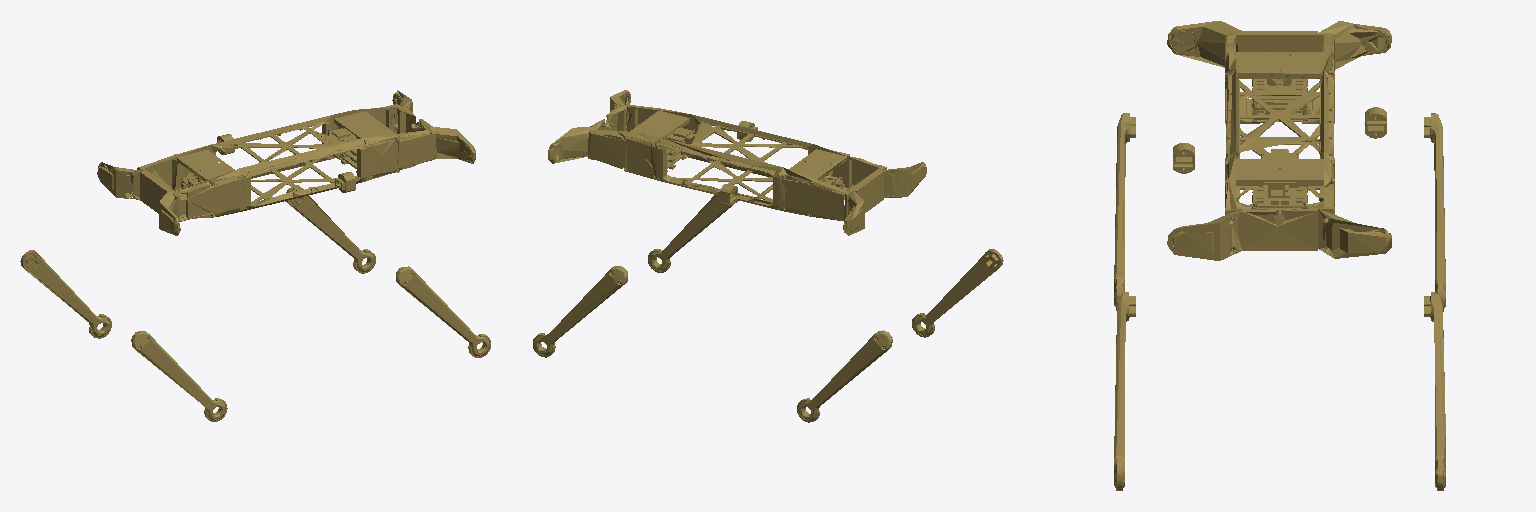
robot.urdf — od:
<?xml version="1.0"?>
<!-- created with Phobos 1.0.1 "Capricious Choutengan" -->
  <robot name="od">

    <link name="link_hip_a">
      <inertial>
        <origin xyz="0 0 0" rpy="0 0 0"/>
        <mass value="0.15"/>
        <inertia ixx="4e-05" ixy="0" ixz="0" iyy="0.00041" iyz="0" izz="0.00041"/>
      </inertial>
      <visual name="visual_Hip_Fe_Module_A">
        <origin xyz="0 0 0" rpy="0 0 0"/>
        <geometry>
          <mesh filename="HipFeModuleA.dae" scale="1.0 1.0 1.0"/>
        </geometry>
        <material name="Material"/>
      </visual>
      <collision name="collision_hip_a">
        <origin xyz="0 0 0" rpy="0 0 0"/>
        <geometry>
          <box size="0.1759 0.0389 0.04438"/>
        </geometry>
      </collision>
    </link>

    <link name="link_hip_b">
      <inertial>
        <origin xyz="0 0 0" rpy="0 0 0"/>
        <mass value="0.15"/>
        <inertia ixx="4e-05" ixy="0" ixz="0" iyy="0.00053" iyz="0" izz="0.00052"/>
      </inertial>
      <visual name="visual_Hip_Adapter_B">
        <origin xyz="0 0 0" rpy="0 0 0"/>
        <geometry>
          <mesh filename="HipAdapterB.dae" scale="1.0 1.0 1.0"/>
        </geometry>
        <material name="Material"/>
      </visual>
      <visual name="visual_Hip_Fe_Module_B">
        <origin xyz="0 0 0" rpy="0 0 0"/>
        <geometry>
          <mesh filename="HipFeModuleB.dae" scale="1.0 1.0 1.0"/>
        </geometry>
        <material name="Material"/>
      </visual>
      <collision name="Hip Fe Module B">
        <origin xyz="0 0 0" rpy="0 0 0"/>
        <geometry>
          <box size="0.201 0.0389 0.04438"/>
        </geometry>
      </collision>
    </link>

    <link name="link_hip_c">
      <inertial>
        <origin xyz="0 0 0" rpy="0 0 0"/>
        <mass value="0.15"/>
        <inertia ixx="4e-05" ixy="0" ixz="0" iyy="0.00053" iyz="0" izz="0.00052"/>
      </inertial>
      <visual name="visual_HipFeModuleC">
        <origin xyz="0 0 0" rpy="0 0 0"/>
        <geometry>
          <mesh filename="HipFeModuleC.dae" scale="1.0 1.0 1.0"/>
        </geometry>
        <material name="Material"/>
      </visual>
      <visual name="visual_Hip_Adapter_C">
        <origin xyz="0 0 0" rpy="0 0 0"/>
        <geometry>
          <mesh filename="HipAdapterC.dae" scale="1.0 1.0 1.0"/>
        </geometry>
        <material name="Material"/>
      </visual>
      <collision name="Hip Fe Module B">
        <origin xyz="0 0 0" rpy="0 0 0"/>
        <geometry>
          <box size="0.201 0.0389 0.04438"/>
        </geometry>
      </collision>
    </link>

    <link name="link_hip_d">
      <inertial>
        <origin xyz="0 0 0" rpy="0 0 0"/>
        <mass value="0.15"/>
        <inertia ixx="4e-05" ixy="0" ixz="0" iyy="0.00041" iyz="0" izz="0.00041"/>
      </inertial>
      <visual name="visual_Hip_Fe_Module_D">
        <origin xyz="0 0 0" rpy="0 0 0"/>
        <geometry>
          <mesh filename="HipFeModuleD.dae" scale="1.0 1.0 1.0"/>
        </geometry>
        <material name="Material"/>
      </visual>
      <collision name="Hip Fe Module A">
        <origin xyz="0 0 0" rpy="0 0 0"/>
        <geometry>
          <box size="0.1759 0.0389 0.04438"/>
        </geometry>
      </collision>
    </link>

    <link name="link_l_leg_a">
      <inertial>
        <origin xyz="0 0 0" rpy="0 0 0"/>
        <mass value="0.02"/>
        <inertia ixx="4e-05" ixy="0" ixz="0" iyy="6e-05" iyz="0" izz="3e-05"/>
      </inertial>
      <visual name="visual_Lower_Leg_A">
        <origin xyz="0.09277 0.14695 0.12354" rpy="0 0 0"/>
        <geometry>
          <mesh filename="LowerLegA.dae" scale="1.0 1.0 1.0"/>
        </geometry>
        <material name="Material"/>
      </visual>
      <collision name="collision_Cyl_link_l_leg_a">
        <origin xyz="0 0 0" rpy="0 0 0"/>
        <geometry>
          <cylinder radius="0.0165" length="0.033"/>
        </geometry>
      </collision>
      <collision name="collision_Lower_Leg">
        <origin xyz="0.09277 0.14695 0.12354" rpy="0 0 0"/>
        <geometry>
          <mesh filename="col_LowerLegA.dae" scale="1.0 1.0 1.0"/>
        </geometry>
      </collision>
    </link>

    <link name="link_l_leg_b">
      <inertial>
        <origin xyz="0 0 0" rpy="0 0 0"/>
        <mass value="0.02"/>
        <inertia ixx="4e-05" ixy="0" ixz="0" iyy="6e-05" iyz="0" izz="3e-05"/>
      </inertial>
      <visual name="visual_Lower_Leg_B">
        <origin xyz="0 0 0" rpy="0 0 0"/>
        <geometry>
          <mesh filename="LowerLegB.dae" scale="1.0 1.0 1.0"/>
        </geometry>
        <material name="Material"/>
      </visual>
      <collision name="Cylinder">
        <origin xyz="0 0 0" rpy="0 0 0"/>
        <geometry>
          <cylinder radius="0.0165" length="0.033"/>
        </geometry>
      </collision>
      <collision name="collision_Lower_Leg_B">
        <origin xyz="0 0 0" rpy="0 0 0"/>
        <geometry>
          <mesh filename="col_LowerLegB.dae" scale="1.0 1.0 1.0"/>
        </geometry>
      </collision>
    </link>

    <link name="link_l_leg_c">
      <inertial>
        <origin xyz="0 0 0" rpy="0 0 0"/>
        <mass value="0.02"/>
        <inertia ixx="4e-05" ixy="0" ixz="0" iyy="6e-05" iyz="0" izz="3e-05"/>
      </inertial>
      <visual name="visual_Lower_Leg_C">
        <origin xyz="0 0 0" rpy="0 0 0"/>
        <geometry>
          <mesh filename="LowerLegC.dae" scale="1.0 1.0 1.0"/>
        </geometry>
        <material name="Material"/>
      </visual>
      <collision name="collision_Cylinder.003">
        <origin xyz="0 0 0" rpy="0 0 0"/>
        <geometry>
          <cylinder radius="0.0165" length="0.033"/>
        </geometry>
      </collision>
      <collision name="collision_Lower_Leg_C">
        <origin xyz="0 0 0" rpy="0 0 0"/>
        <geometry>
          <mesh filename="col_LowerLegC.dae" scale="1.0 1.0 1.0"/>
        </geometry>
      </collision>
    </link>

    <link name="link_l_leg_d">
      <inertial>
        <origin xyz="0 0 0" rpy="0 0 0"/>
        <mass value="0.02"/>
        <inertia ixx="4e-05" ixy="0" ixz="0" iyy="6e-05" iyz="0" izz="3e-05"/>
      </inertial>
      <visual name="visual_Lower_Leg_D">
        <origin xyz="0 0 0" rpy="0 0 0"/>
        <geometry>
          <mesh filename="LowerLegD.dae" scale="1.0 1.0 1.0"/>
        </geometry>
        <material name="Material"/>
      </visual>
      <collision name="Cylinder.001">
        <origin xyz="0 0 0" rpy="0 0 0"/>
        <geometry>
          <cylinder radius="0.0165" length="0.033"/>
        </geometry>
      </collision>
      <collision name="collision_Lower_Leg_D">
        <origin xyz="0 0 0" rpy="0 0 0"/>
        <geometry>
          <mesh filename="col_LowerLegD.dae" scale="1.0 1.0 1.0"/>
        </geometry>
      </collision>
    </link>

    <link name="link_root">
      <inertial>
        <origin xyz="0 0 0.3" rpy="0 0 0"/>
        <mass value="1.2"/>
        <inertia ixx="0.00125" ixy="0" ixz="0" iyy="0.01546" iyz="0" izz="0.01621"/>
      </inertial>
      <visual name="visual_Body_Structure">
        <origin xyz="0 0 0.3" rpy="0 0 0"/>
        <geometry>
          <mesh filename="Body_Structure.dae" scale="1.0 1.0 1.0"/>
        </geometry>
        <material name="Material"/>
      </visual>
      <visual name="visual_Hip_Aa_Module_A">
        <origin xyz="0 0 0.3" rpy="0 0 0"/>
        <geometry>
          <mesh filename="HipAaModuleA.dae" scale="1.0 1.0 1.0"/>
        </geometry>
        <material name="Material"/>
      </visual>
      <visual name="visual_Hip_Aa_Module_B">
        <origin xyz="0 0 0.3" rpy="0 0 0"/>
        <geometry>
          <mesh filename="HipAaModuleB.dae" scale="1.0 1.0 1.0"/>
        </geometry>
        <material name="Material"/>
      </visual>
      <visual name="visual_Hip_Aa_Module_C">
        <origin xyz="0 0 0.3" rpy="0 0 0"/>
        <geometry>
          <mesh filename="HipAaModuleC.dae" scale="1.0 1.0 1.0"/>
        </geometry>
        <material name="Material"/>
      </visual>
      <visual name="visual_Hip_Aa_Module_D">
        <origin xyz="0 0 0.3" rpy="0 0 0"/>
        <geometry>
          <mesh filename="HipAaModuleD.dae" scale="1.0 1.0 1.0"/>
        </geometry>
        <material name="Material"/>
      </visual>
      <collision name="collision_root">
        <origin xyz="0 0 0.3" rpy="0 0 0"/>
        <geometry>
          <box size="0.39 0.1 0.05"/>
        </geometry>
      </collision>
      <collision name="collision_root_0">
        <origin xyz="0 0 0.3" rpy="0 0 0"/>
        <geometry>
          <box size="0.01 0.04 0.04"/>
        </geometry>
      </collision>
      <collision name="collision_root_1">
        <origin xyz="0 0 0.3" rpy="0 0 0"/>
        <geometry>
          <box size="0.01 0.04 0.04"/>
        </geometry>
      </collision>
      <collision name="collision_root_2">
        <origin xyz="0 0 0.3" rpy="0 0 0"/>
        <geometry>
          <box size="0.01 0.04 0.04"/>
        </geometry>
      </collision>
      <collision name="collision_root_3">
        <origin xyz="0 0 0.3" rpy="0 0 0"/>
        <geometry>
          <box size="0.01 0.04 0.04"/>
        </geometry>
      </collision>
    </link>

    <link name="link_u_leg_a">
      <inertial>
        <origin xyz="0 0 0" rpy="0 0 0"/>
        <mass value="0.15"/>
        <inertia ixx="0.00015" ixy="0" ixz="0.00011" iyy="0.00025" iyz="0" izz="0.00011"/>
      </inertial>
      <visual name="visual_Upper_Leg_Module_A">
        <origin xyz="0 0 0" rpy="0 0 0"/>
        <geometry>
          <mesh filename="UpperLegModuleA.dae" scale="1.0 1.0 1.0"/>
        </geometry>
        <material name="Material"/>
      </visual>
      <collision name="Upper Leg Module">
        <origin xyz="0 0 0" rpy="0 0 0"/>
        <geometry>
          <box size="0.11331 0.014 0.12771"/>
        </geometry>
      </collision>
      <collision name="collision_Cylinder.001">
        <origin xyz="0 -0.001 0" rpy="0 0 0"/>
        <geometry>
          <cylinder radius="0.0175" length="0.035"/>
        </geometry>
      </collision>
      <collision name="collision_cyl_a">
        <origin xyz="0 0.001 0" rpy="0 0 0"/>
        <geometry>
          <cylinder radius="0.0175" length="0.035"/>
        </geometry>
      </collision>
    </link>

    <link name="link_u_leg_b">
      <inertial>
        <origin xyz="0 0 0" rpy="0 0 0"/>
        <mass value="0.15"/>
        <inertia ixx="0.00015" ixy="0" ixz="0.00011" iyy="0.00025" iyz="0" izz="0.00011"/>
      </inertial>
      <visual name="visual_upper_leg_b">
        <origin xyz="0 0 0" rpy="0 0 0"/>
        <geometry>
          <mesh filename="UpperLegModuleB.dae" scale="1.0 1.0 1.0"/>
        </geometry>
        <material name="Material"/>
      </visual>
      <collision name="Upper Leg Module">
        <origin xyz="0 0 0" rpy="0 0 0"/>
        <geometry>
          <box size="0.11331 0.014 0.12771"/>
        </geometry>
      </collision>
      <collision name="collision_Cylinder.006">
        <origin xyz="0 -0.001 0" rpy="0 0 0"/>
        <geometry>
          <cylinder radius="0.0175" length="0.035"/>
        </geometry>
      </collision>
      <collision name="collision_Cylinder.007">
        <origin xyz="0 0.001 0" rpy="0 0 0"/>
        <geometry>
          <cylinder radius="0.0175" length="0.035"/>
        </geometry>
      </collision>
    </link>

    <link name="link_u_leg_c">
      <inertial>
        <origin xyz="0 0 0" rpy="0 0 0"/>
        <mass value="0.15"/>
        <inertia ixx="0.00015" ixy="0" ixz="-0.00011" iyy="0.00025" iyz="0" izz="0.00011"/>
      </inertial>
      <visual name="visual_Upper_Leg_Module_C">
        <origin xyz="0 0 0" rpy="0 0 0"/>
        <geometry>
          <mesh filename="UpperLegModuleC.dae" scale="1.0 1.0 1.0"/>
        </geometry>
        <material name="Material"/>
      </visual>
      <collision name="Upper Leg Module">
        <origin xyz="0 0 0" rpy="0 0 0"/>
        <geometry>
          <box size="0.11331 0.014 0.12771"/>
        </geometry>
      </collision>
      <collision name="collision_Cylinder.008">
        <origin xyz="0 -0.006 0" rpy="0 0 0"/>
        <geometry>
          <cylinder radius="0.0175" length="0.035"/>
        </geometry>
      </collision>
      <collision name="collision_Cylinder.009">
        <origin xyz="0 0 0" rpy="0 0 0"/>
        <geometry>
          <cylinder radius="0.0175" length="0.035"/>
        </geometry>
      </collision>
    </link>

    <link name="link_u_leg_d">
      <inertial>
        <origin xyz="0.00016 0.00015 9e-05" rpy="0 0 0"/>
        <mass value="0.15"/>
        <inertia ixx="0.00015" ixy="0" ixz="-0.00011" iyy="0.00025" iyz="0" izz="0.00011"/>
      </inertial>
      <visual name="visual_Upper_Leg_Module_D">
        <origin xyz="0.00016 0.00015 9e-05" rpy="0 0 0"/>
        <geometry>
          <mesh filename="UpperLegModuleD.dae" scale="1.0 1.0 1.0"/>
        </geometry>
        <material name="Material"/>
      </visual>
      <collision name="Upper Leg Module">
        <origin xyz="0.00016 0.00015 9e-05" rpy="0 0 0"/>
        <geometry>
          <box size="0.11331 0.014 0.12771"/>
        </geometry>
      </collision>
      <collision name="collision_Cylinder.010">
        <origin xyz="0.00016 0 9e-05" rpy="0 0 0"/>
        <geometry>
          <cylinder radius="0.0175" length="0.035"/>
        </geometry>
      </collision>
      <collision name="collision_Cylinder.011">
        <origin xyz="0.00016 0.002 9e-05" rpy="0 0 0"/>
        <geometry>
          <cylinder radius="0.0175" length="0.035"/>
        </geometry>
      </collision>
    </link>

    <joint name="link_hip_a" type="revolute">
      <origin xyz="-0.1939 -0.09 0.3" rpy="0 0 0"/>
      <parent link="link_root"/>
      <child link="link_hip_a"/>
      <axis xyz="-1.0 0 0"/>
      <limit lower="-1.31" upper="2.443" effort="2.7" velocity="50.0"/>
    </joint>

    <joint name="link_hip_b" type="revolute">
      <origin xyz="-0.1939 0.09 0.3" rpy="0 0 0"/>
      <parent link="link_root"/>
      <child link="link_hip_b"/>
      <axis xyz="-1.0 0 0"/>
      <limit lower="-1.31" upper="2.443" effort="2.7" velocity="50.0"/>
    </joint>

    <joint name="link_hip_c" type="revolute">
      <origin xyz="0.1939 -0.09 0.3" rpy="0 0 0"/>
      <parent link="link_root"/>
      <child link="link_hip_c"/>
      <axis xyz="1.0 0 0"/>
      <limit lower="-1.31" upper="2.443" effort="2.7" velocity="50.0"/>
    </joint>

    <joint name="link_hip_d" type="revolute">
      <origin xyz="0.1939 0.09 0.3" rpy="0 0 0"/>
      <parent link="link_root"/>
      <child link="link_hip_d"/>
      <axis xyz="1.0 0 0"/>
      <limit lower="-1.31" upper="2.443" effort="2.7" velocity="50.0"/>
    </joint>

    <joint name="link_l_leg_a" type="revolute">
      <origin xyz="0.10113 -0.05695 -0.12354" rpy="0 -2.83267 0"/>
      <parent link="link_u_leg_a"/>
      <child link="link_l_leg_a"/>
      <axis xyz="0 -1.0 0"/>
      <limit lower="-6.3" upper="6.3" effort="2.7" velocity="50.0"/>
    </joint>

    <joint name="link_l_leg_b" type="revolute">
      <origin xyz="0.10113 0.05695 -0.12354" rpy="0 -2.82743 0"/>
      <parent link="link_u_leg_b"/>
      <child link="link_l_leg_b"/>
      <axis xyz="0 1.0 0"/>
      <limit lower="-6.3" upper="6.3" effort="2.7" velocity="50.0"/>
    </joint>

    <joint name="link_l_leg_c" type="revolute">
      <origin xyz="-0.10113 -0.05695 -0.12354" rpy="0 0 0"/>
      <parent link="link_u_leg_c"/>
      <child link="link_l_leg_c"/>
      <axis xyz="0 -1.0 0"/>
      <limit lower="-6.3" upper="6.3" effort="2.7" velocity="50.0"/>
    </joint>

    <joint name="link_l_leg_d" type="revolute">
      <origin xyz="-0.10112 0.05695 -0.12354" rpy="0 0 0"/>
      <parent link="link_u_leg_d"/>
      <child link="link_l_leg_d"/>
      <axis xyz="0 1.0 0"/>
      <limit lower="-1.31" upper="2.443" effort="2.7" velocity="50.0"/>
    </joint>

    <joint name="link_u_leg_a" type="revolute">
      <origin xyz="0 0 0" rpy="0 1.37881 0"/>
      <parent link="link_hip_a"/>
      <child link="link_u_leg_a"/>
      <axis xyz="0 -1.0 0"/>
      <limit lower="-6.3" upper="6.3" effort="2.7" velocity="50.0"/>
    </joint>

    <joint name="link_u_leg_b" type="revolute">
      <origin xyz="0 0 0" rpy="0 1.37881 0"/>
      <parent link="link_hip_b"/>
      <child link="link_u_leg_b"/>
      <axis xyz="0 1.0 0"/>
      <limit lower="-6.3" upper="6.3" effort="2.7" velocity="50.0"/>
    </joint>

    <joint name="link_u_leg_c" type="revolute">
      <origin xyz="0 0 0" rpy="0 0 0"/>
      <parent link="link_hip_c"/>
      <child link="link_u_leg_c"/>
      <axis xyz="0 -1.0 0"/>
      <limit lower="-6.3" upper="6.3" effort="2.7" velocity="50.0"/>
    </joint>

    <joint name="link_u_leg_d" type="revolute">
      <origin xyz="0 0 0" rpy="0 0 0"/>
      <parent link="link_hip_d"/>
      <child link="link_u_leg_d"/>
      <axis xyz="0 1.0 0"/>
      <limit lower="-6.3" upper="6.3" effort="2.7" velocity="50.0"/>
    </joint>

    <material name="Material">
      <color rgba="0.64 0.57001 0.34995 1.0"/>
    </material>

  </robot>

--- Facts derived from the render (not from the file) ---
3 views of the same robot in one strip: view 1: azimuth 30°, elevation 25°; view 2: azimuth 150°, elevation 25°; view 3: azimuth 270°, elevation 25° (orthographic).
Model od with 13 links and 12 joints (12 revolute), rooted at link_root, posed every joint at zero.
Links seen in each view (by area): view 1: link_root, link_l_leg_a, link_l_leg_c, link_l_leg_b, link_l_leg_d; view 2: link_root, link_l_leg_b, link_l_leg_d, link_l_leg_a, link_l_leg_c; view 3: link_root, link_l_leg_d, link_l_leg_c, link_l_leg_b, link_l_leg_a, link_hip_b, link_hip_c.
Link boxes in pixels (x1,y1,x2,y2): link_root: (97,90,475,235); link_l_leg_a: (131,331,227,421); link_l_leg_c: (396,266,490,357); link_l_leg_b: (20,250,111,338); link_l_leg_d: (285,185,375,273); link_root: (548,90,926,235); link_l_leg_b: (797,330,892,422); link_l_leg_d: (533,266,627,357); link_l_leg_a: (912,249,1003,337); link_l_leg_c: (648,195,738,272); link_root: (1167,21,1391,260); link_l_leg_d: (1424,292,1445,490); link_l_leg_c: (1114,292,1135,490); link_l_leg_b: (1424,113,1445,311); link_l_leg_a: (1114,113,1135,310); link_hip_b: (1365,107,1386,138); link_hip_c: (1173,143,1194,173).
Size in the robot's own frame: 0.5319 by 0.3039 by 0.2913 metres.
Meshes: 19 distinct files referenced, 7 mesh visuals loaded (7 Collada DAE); not drawn: 12 (reference not matched to a file when rendering).